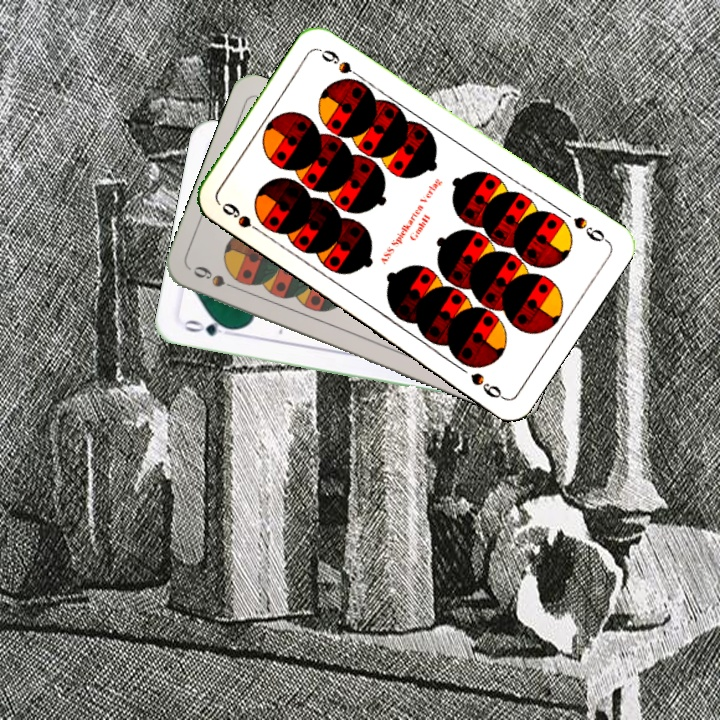GO: (180, 315, 238, 339)
S9: (218, 198, 268, 238), (189, 262, 244, 294), (569, 212, 611, 246)
